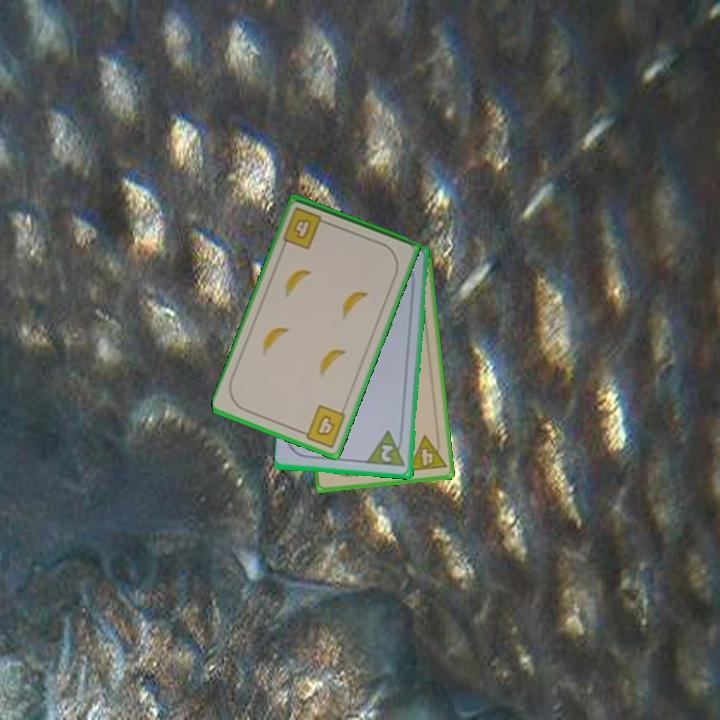2p: (377, 441, 396, 465)
4b: (296, 401, 349, 451), (279, 204, 332, 252)
4p: (405, 431, 449, 474)
